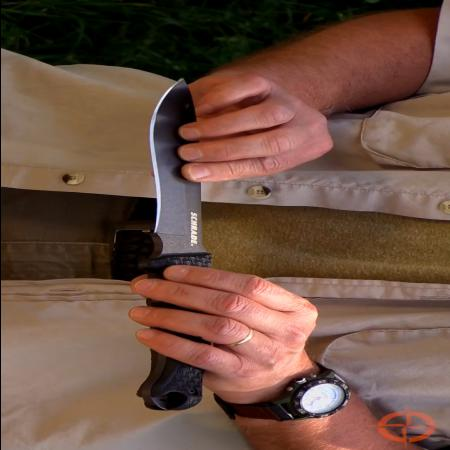long weapon: (125, 68, 241, 416)
